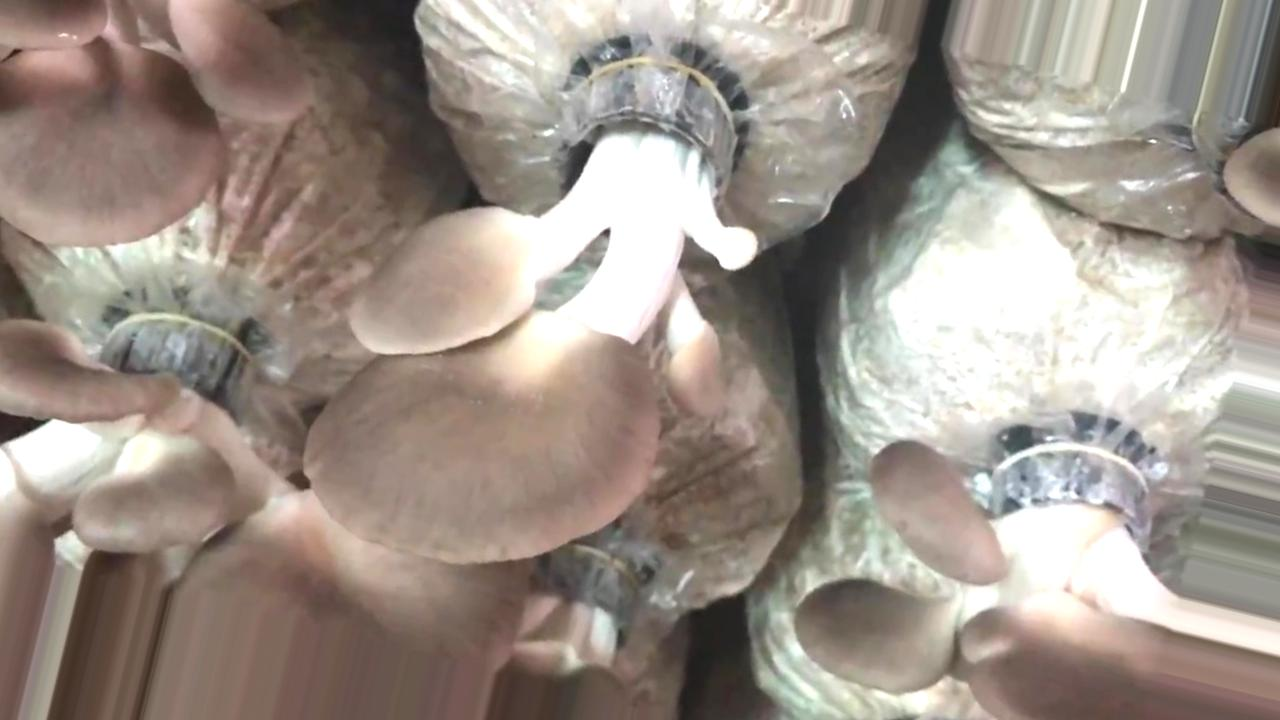nam: (300, 38, 760, 563), (1, 274, 532, 717), (791, 403, 1280, 718), (4, 1, 318, 249)
